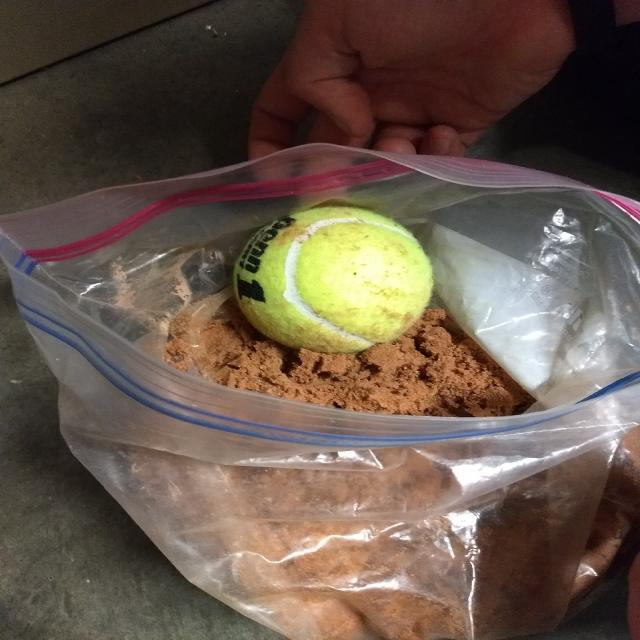Tennis-Ball: (236, 207, 431, 351)
